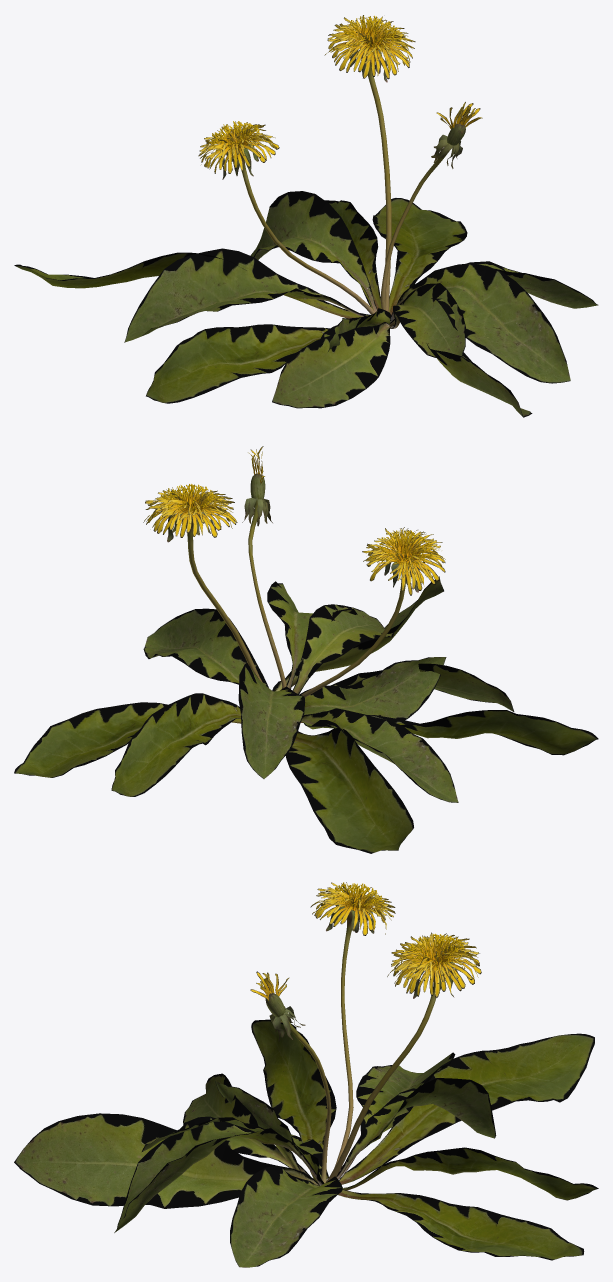
Rendered from dandelion_01.glb.
3 renders of one model, top to bottom at view 1: azimuth 30°, elevation 25°; view 2: azimuth 150°, elevation 25°; view 3: azimuth 270°, elevation 25°, orthographic. The views are drawn at different scales.
Visible parts, largest first — view 1: dandelion_01_b_LOD0; view 2: dandelion_01_b_LOD0; view 3: dandelion_01_b_LOD0.
Boxes of the visible parts, x1=… form: dandelion_01_b_LOD0: x1=14, y1=15, x2=598, y2=417; dandelion_01_b_LOD0: x1=14, y1=446, x2=598, y2=853; dandelion_01_b_LOD0: x1=14, y1=882, x2=598, y2=1267.
Size of the model in its own units: 0.2018 by 0.1139 by 0.218.
1 material, 1 textured.
